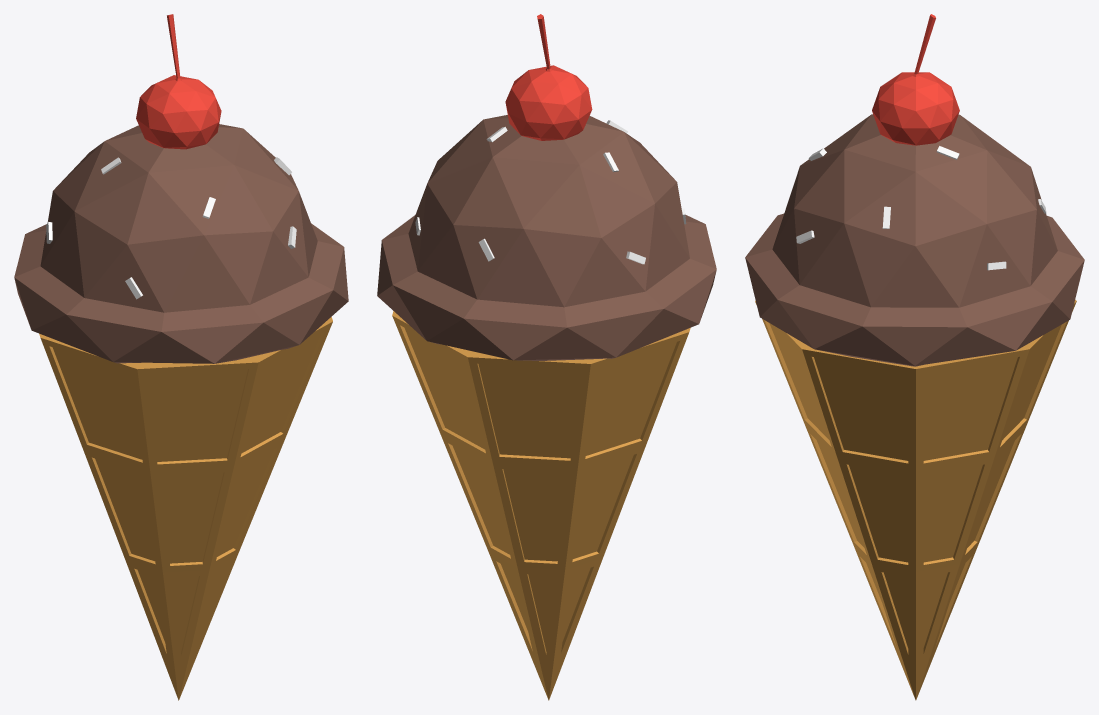
Rendered from icecream.glb.
3 renders of one model, left to right at view 1: azimuth 30°, elevation 25°; view 2: azimuth 150°, elevation 25°; view 3: azimuth 270°, elevation 25°, orthographic.
Visible parts, largest first — view 1: node-0; view 2: node-0; view 3: node-0.
Part boxes in pixels (box(x1,y1,x2,y2)): node-0: box(14, 14, 348, 700); node-0: box(377, 14, 716, 700); node-0: box(745, 14, 1084, 700).
Bounding box in the file's own units: 4.52 × 10.21 × 4.58.
